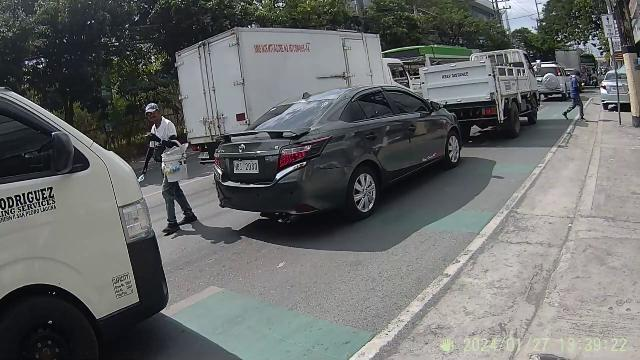car: (231, 78, 469, 226)
street_sign: (596, 11, 630, 134)
